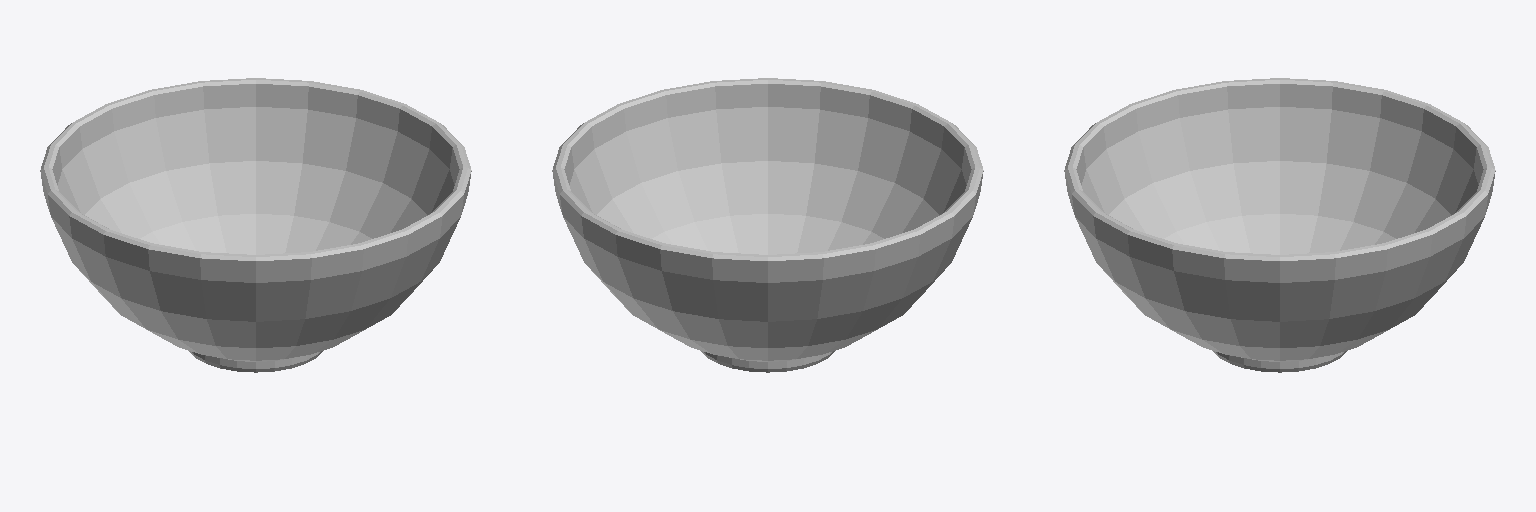
Rendered from bowl.obj.
3 renders of one model, left to right at view 1: azimuth 30°, elevation 25°; view 2: azimuth 150°, elevation 25°; view 3: azimuth 270°, elevation 25°, orthographic.
Visible parts, largest first — view 1: Bowl; view 2: Bowl; view 3: Bowl.
Part boxes in pixels (x1,y1,x2,y2): Bowl: (40,78,471,372); Bowl: (552,78,983,372); Bowl: (1064,78,1495,372).
Size of the model in its own units: 68.91 by 31.26 by 68.91.